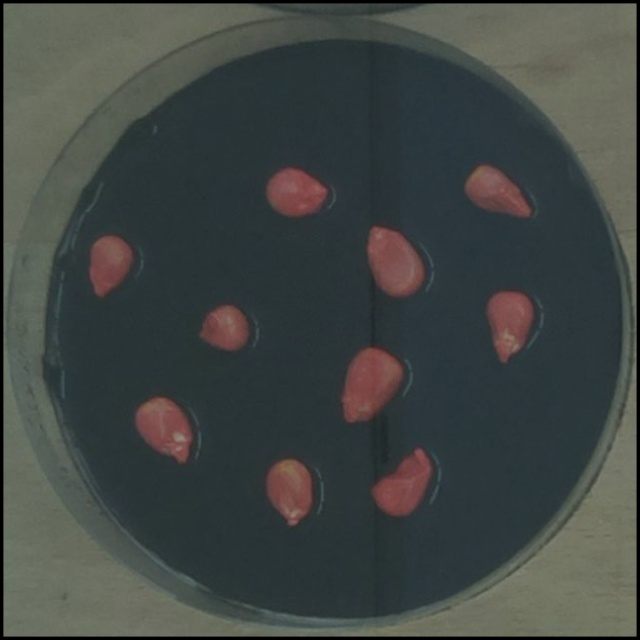Zea mays: (334, 338, 412, 431), (362, 437, 440, 526), (126, 391, 203, 472), (359, 218, 431, 304), (456, 158, 540, 227), (257, 159, 338, 226), (479, 286, 542, 372), (256, 450, 320, 534), (81, 228, 139, 306), (190, 297, 256, 361)
